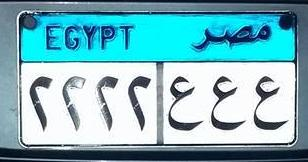2: (25, 71, 55, 137), (58, 70, 88, 132), (125, 72, 154, 132), (94, 73, 119, 135)
ain: (164, 72, 204, 134), (207, 74, 246, 135), (252, 73, 289, 135)
